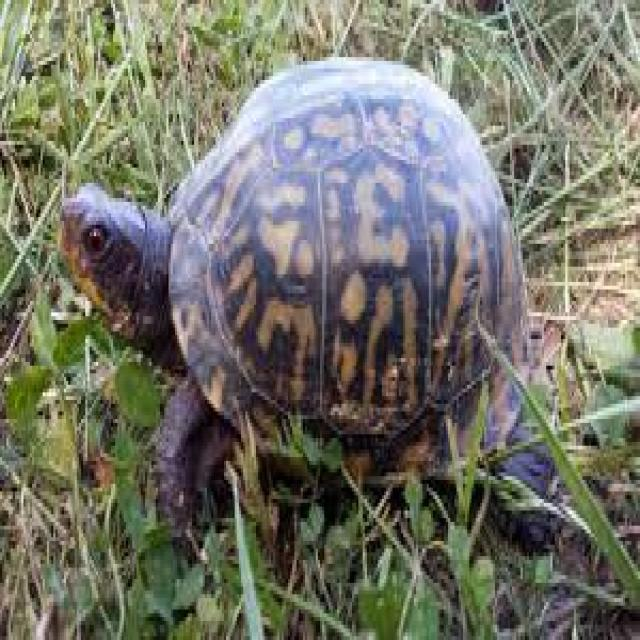turtle: (56, 134, 552, 459)
